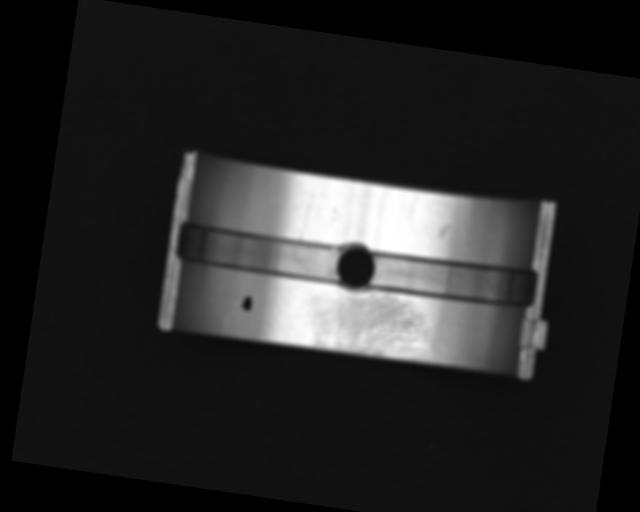blot: (239, 293, 254, 312)
bruise: (437, 221, 453, 239)
gap: (364, 247, 540, 313), (175, 221, 345, 286)
hole: (332, 237, 378, 296)
nick: (299, 201, 312, 241)
scratch: (300, 281, 437, 364)
